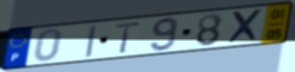0: (30, 27, 66, 64)
8: (195, 13, 224, 47)
9: (149, 15, 180, 53)
I: (84, 24, 99, 59)
T: (112, 20, 145, 55)
X: (226, 8, 265, 46)
